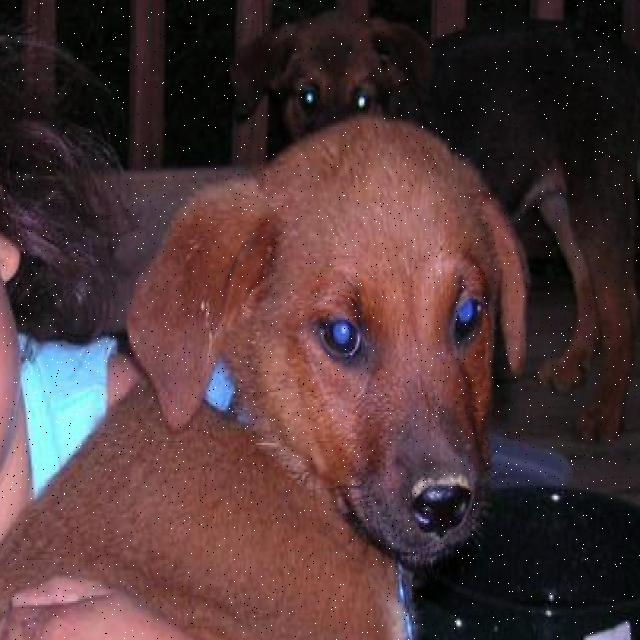Dog: (138, 125, 520, 564)
